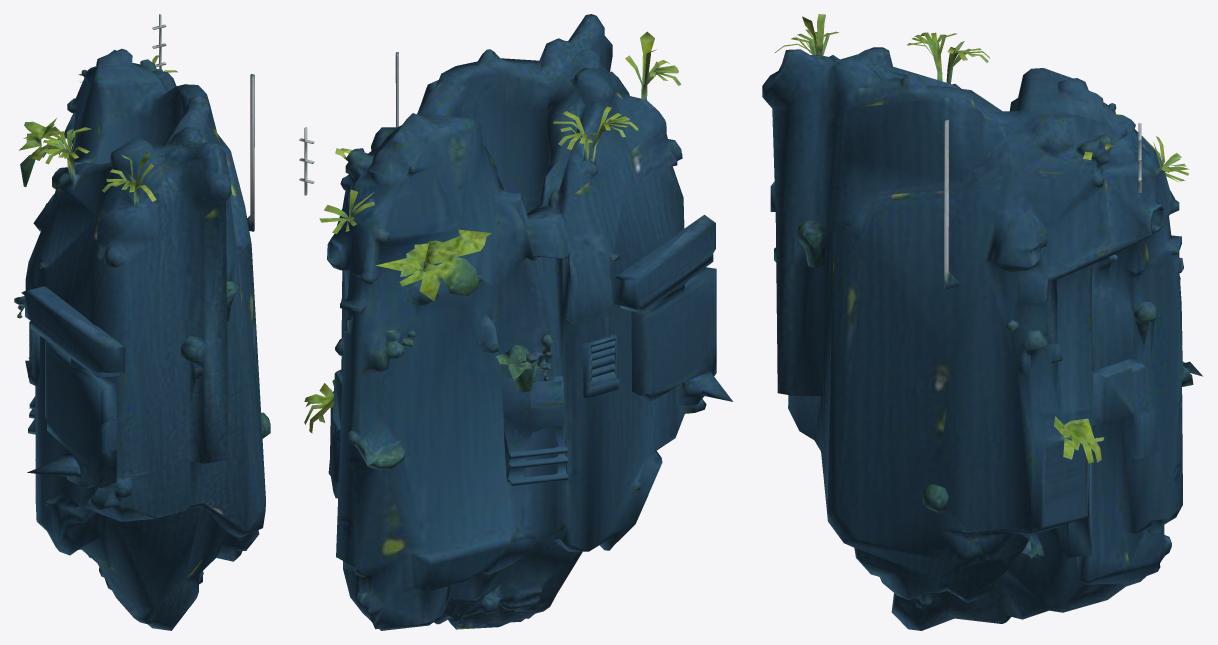
Rendered from karst_tower.glb.
3 views of the same model, side by side, from view 1: azimuth 30°, elevation 25°; view 2: azimuth 150°, elevation 25°; view 3: azimuth 270°, elevation 25° (orthographic). The views are drawn at different scales.
Visible parts, largest first — view 1: Body; view 2: Body; view 3: Body.
Boxes of the visible parts, x1,y1,x2,y2 form: Body: (14,14,270,630); Body: (299,14,732,630); Body: (762,14,1202,630).
Size of the model in its own units: 20.77 by 34.95 by 24.28.
Materials: 1 (1 with a texture image).
